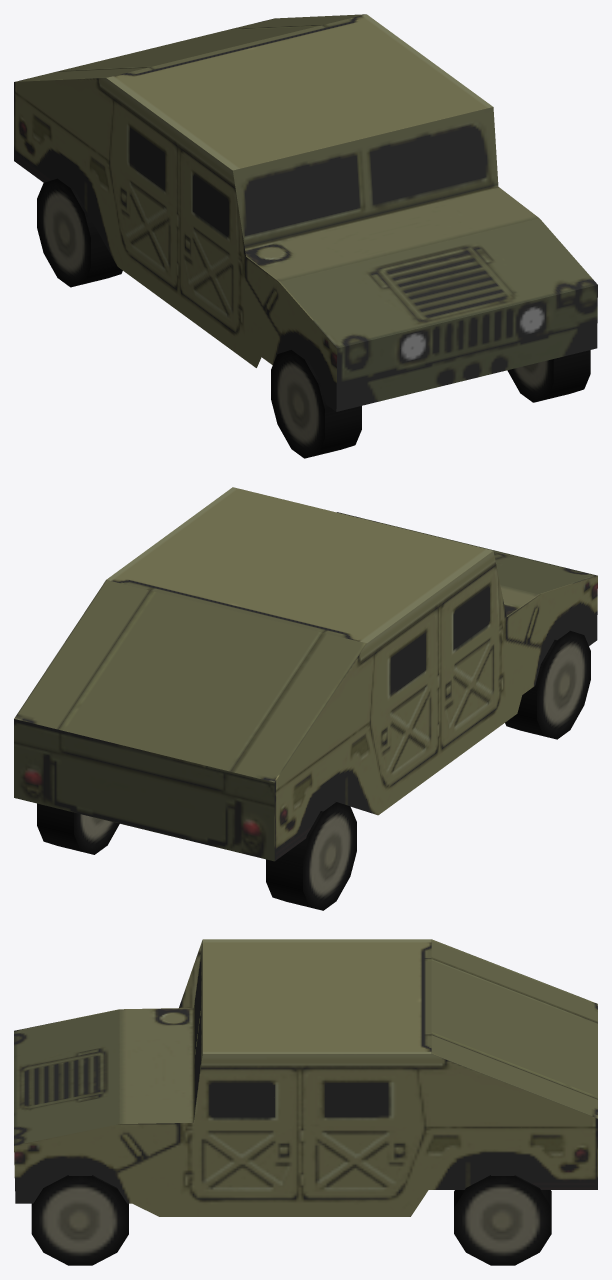
The model's file is humvee.dae.
3 views of the same model, one above another, from view 1: azimuth 30°, elevation 25°; view 2: azimuth 150°, elevation 25°; view 3: azimuth 270°, elevation 25° (orthographic). The views are drawn at different scales.
Visible parts, largest first — view 1: _1094_Humvee; view 2: _1094_Humvee; view 3: _1094_Humvee.
Boxes of the visible parts, x1,y1,x2,y2 form: _1094_Humvee: (14, 14, 597, 458); _1094_Humvee: (14, 487, 597, 910); _1094_Humvee: (14, 939, 597, 1265).
Size of the model in its own units: 924 by 774 by 1945.
1 material, 1 textured.
